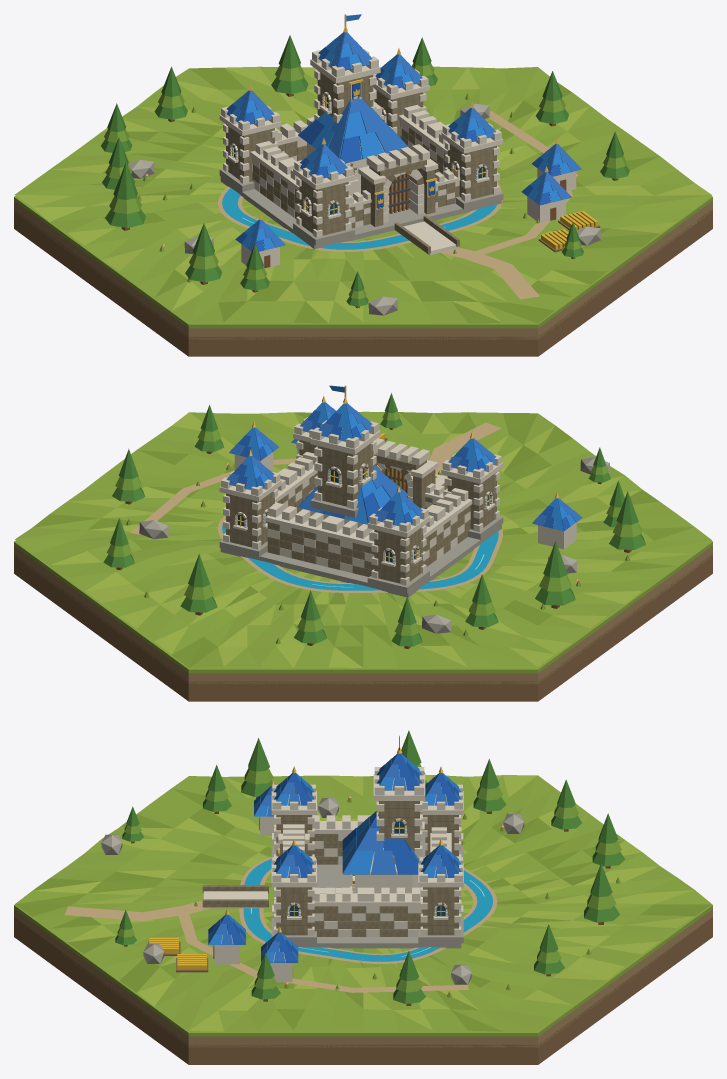
File: buildable-city-center-lod1.glb
3 renders of one model, top to bottom at view 1: azimuth 30°, elevation 25°; view 2: azimuth 150°, elevation 25°; view 3: azimuth 270°, elevation 25°, orthographic.
Visible parts, largest first — view 1: faceted_meadow, hex_ground_soil, hex_ground_earth, hex_ground_grass, castle_foundation, turquoise_moat, perimeter_tower__tower_shaft.001, perimeter_tower__tower_shaft.003, moat_sandy_bank, approach_road, village_lane, perimeter_tower__tower_shaft.002 (+7 smaller); view 2: faceted_meadow, hex_ground_soil, hex_ground_earth, hex_ground_grass, castle_foundation, turquoise_moat, royal_keep__tower_shaft.001, perimeter_tower__tower_shaft.002, perimeter_tower__tower_shaft.004, moat_sandy_bank, perimeter_tower__tower_shaft.001, approach_road (+8 smaller); view 3: faceted_meadow, hex_ground_soil, hex_ground_earth, hex_ground_grass, turquoise_moat, castle_foundation, moat_sandy_bank, village_lane, perimeter_tower__tower_shaft.004, perimeter_tower__tower_shaft.003, approach_road, royal_keep__tower_shaft.001 (+9 smaller).
Boxes of the visible parts, x1,y1,x2,y2 form: faceted_meadow: [15, 66, 711, 323]; hex_ground_soil: [14, 209, 712, 356]; hex_ground_earth: [14, 201, 712, 339]; hex_ground_grass: [14, 195, 712, 328]; castle_foundation: [220, 174, 501, 249]; turquoise_moat: [222, 188, 497, 249]; perimeter_tower__tower_shaft.001: [299, 178, 348, 235]; perimeter_tower__tower_shaft.003: [447, 142, 496, 199]; moat_sandy_bank: [218, 181, 502, 251]; approach_road: [440, 247, 539, 299]; village_lane: [463, 111, 572, 258]; perimeter_tower__tower_shaft.002: [226, 124, 274, 181]; faceted_meadow: [15, 411, 711, 668]; hex_ground_soil: [14, 553, 712, 701]; hex_ground_earth: [14, 545, 712, 684]; hex_ground_grass: [14, 540, 712, 673]; castle_foundation: [220, 524, 501, 597]; turquoise_moat: [222, 519, 498, 590]; royal_keep__tower_shaft.001: [317, 442, 373, 506]; perimeter_tower__tower_shaft.002: [374, 526, 423, 583]; perimeter_tower__tower_shaft.004: [226, 490, 274, 547]; moat_sandy_bank: [218, 515, 502, 592]; perimeter_tower__tower_shaft.001: [447, 472, 496, 529]; approach_road: [429, 422, 501, 476]; faceted_meadow: [15, 775, 711, 1031]; hex_ground_soil: [14, 917, 712, 1064]; hex_ground_earth: [14, 909, 712, 1047]; hex_ground_grass: [14, 904, 712, 1036]; turquoise_moat: [243, 859, 492, 961]; castle_foundation: [294, 864, 461, 948]; moat_sandy_bank: [239, 857, 497, 963]; village_lane: [176, 907, 468, 992]; perimeter_tower__tower_shaft.004: [423, 887, 458, 935]; perimeter_tower__tower_shaft.003: [276, 887, 312, 935]; approach_road: [64, 900, 210, 920]; royal_keep__tower_shaft.001: [379, 801, 419, 855].
Bounding box in the file's own units: 1.73 × 0.635 × 2.
23 materials, 1 textured.
